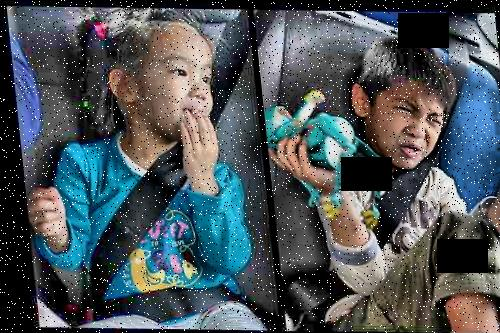seatbelt: (59, 41, 291, 319), (338, 36, 500, 266)
